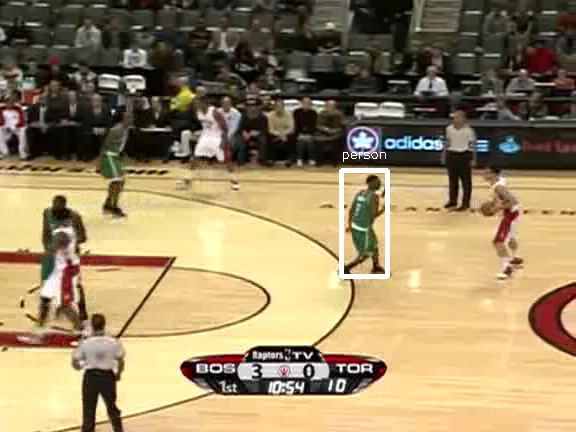person: (349, 183, 383, 264), (348, 183, 382, 264), (350, 183, 384, 264), (349, 182, 383, 263), (349, 184, 383, 265)
target_negative: (125, 77, 491, 367), (51, 133, 541, 237), (9, 304, 513, 366), (516, 333, 527, 406), (549, 398, 568, 420), (534, 423, 550, 424)
